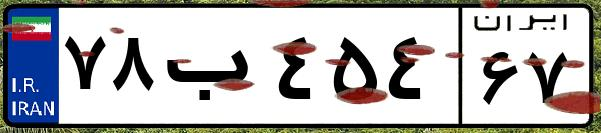4: (270, 28, 330, 110), (385, 28, 445, 110)
5: (330, 28, 385, 110)
6: (475, 38, 525, 113)
7: (57, 26, 110, 100), (525, 38, 570, 115)
8: (110, 28, 158, 98)
ب: (158, 20, 270, 120)
